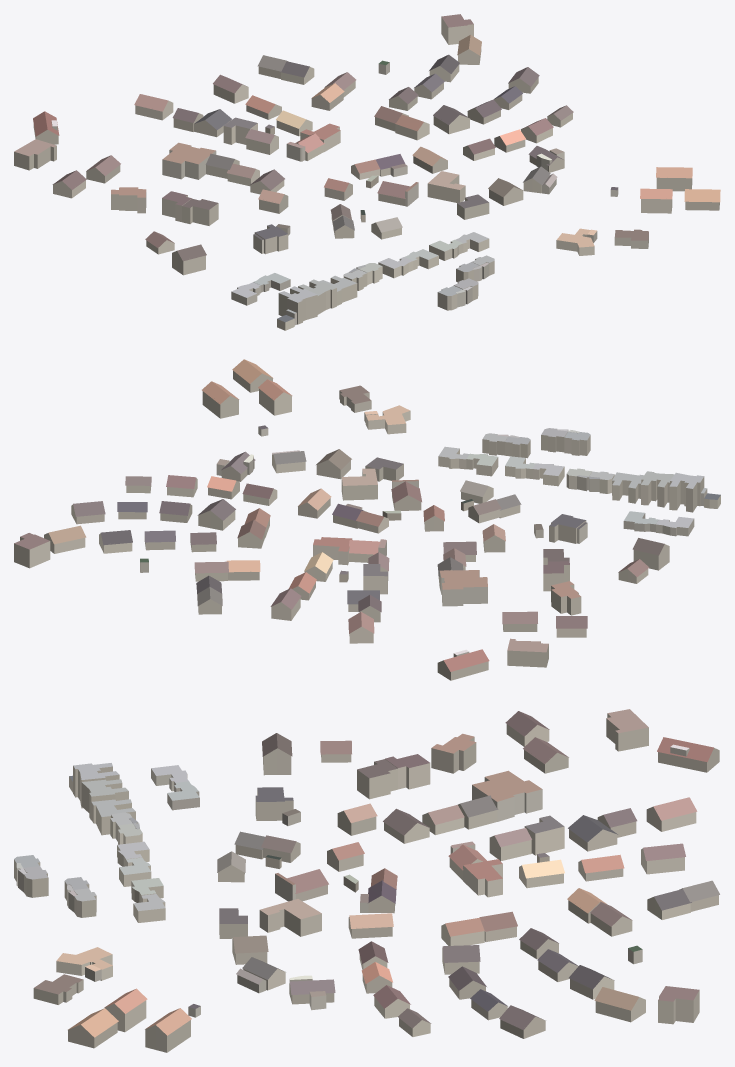
The picture shows the model from 3 angles, top to bottom: view 1: azimuth 30°, elevation 25°; view 2: azimuth 150°, elevation 25°; view 3: azimuth 270°, elevation 25°; orthographic projection. The views are drawn at different scales.
Visible parts, largest first — view 1: tuile; view 2: tuile; view 3: tuile.
Boxes of the visible parts, x1=… form: tuile: x1=14, y1=14, x2=720, y2=330; tuile: x1=14, y1=359, x2=720, y2=680; tuile: x1=14, y1=709, x2=719, y2=1052.
Size of the model in its own units: 265 by 20.46 by 251.
